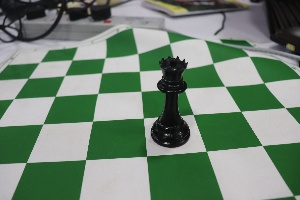black_queen: (139, 42, 194, 154)
